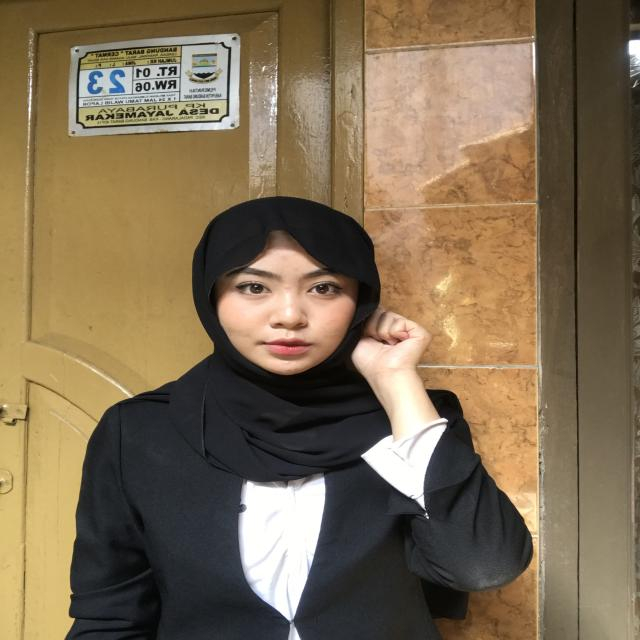ibu: (334, 302, 469, 422)
